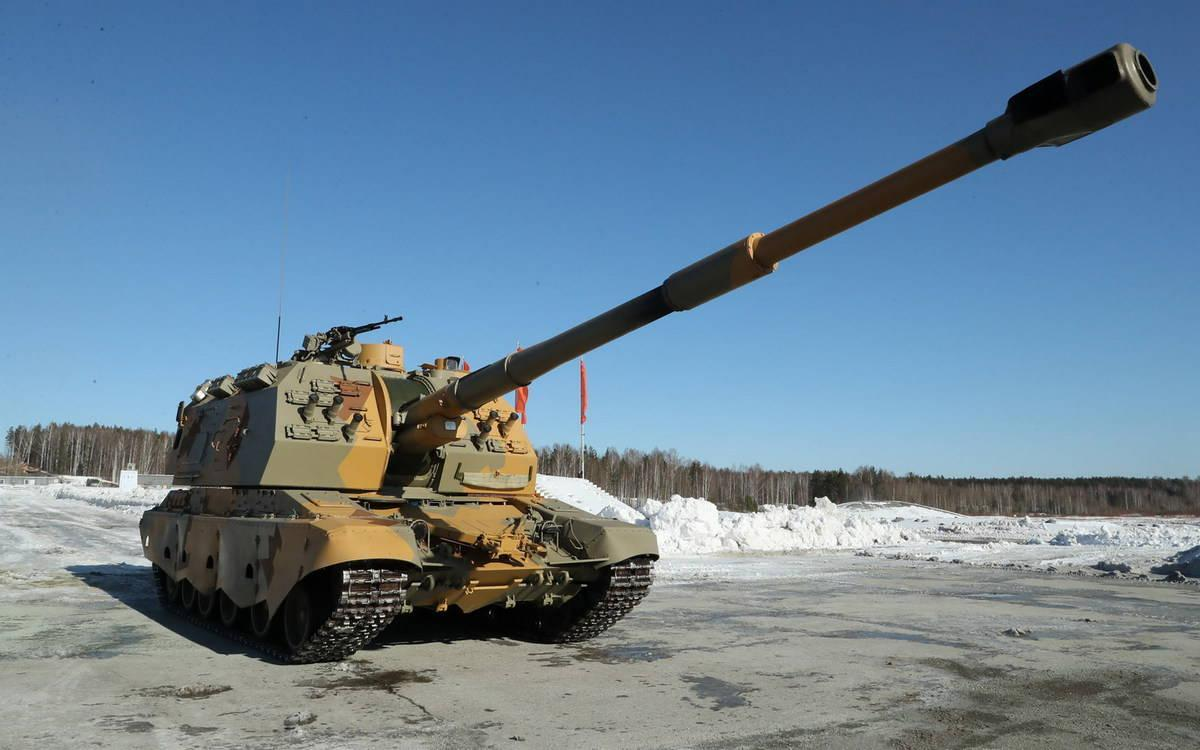sau: (137, 32, 1165, 681)
